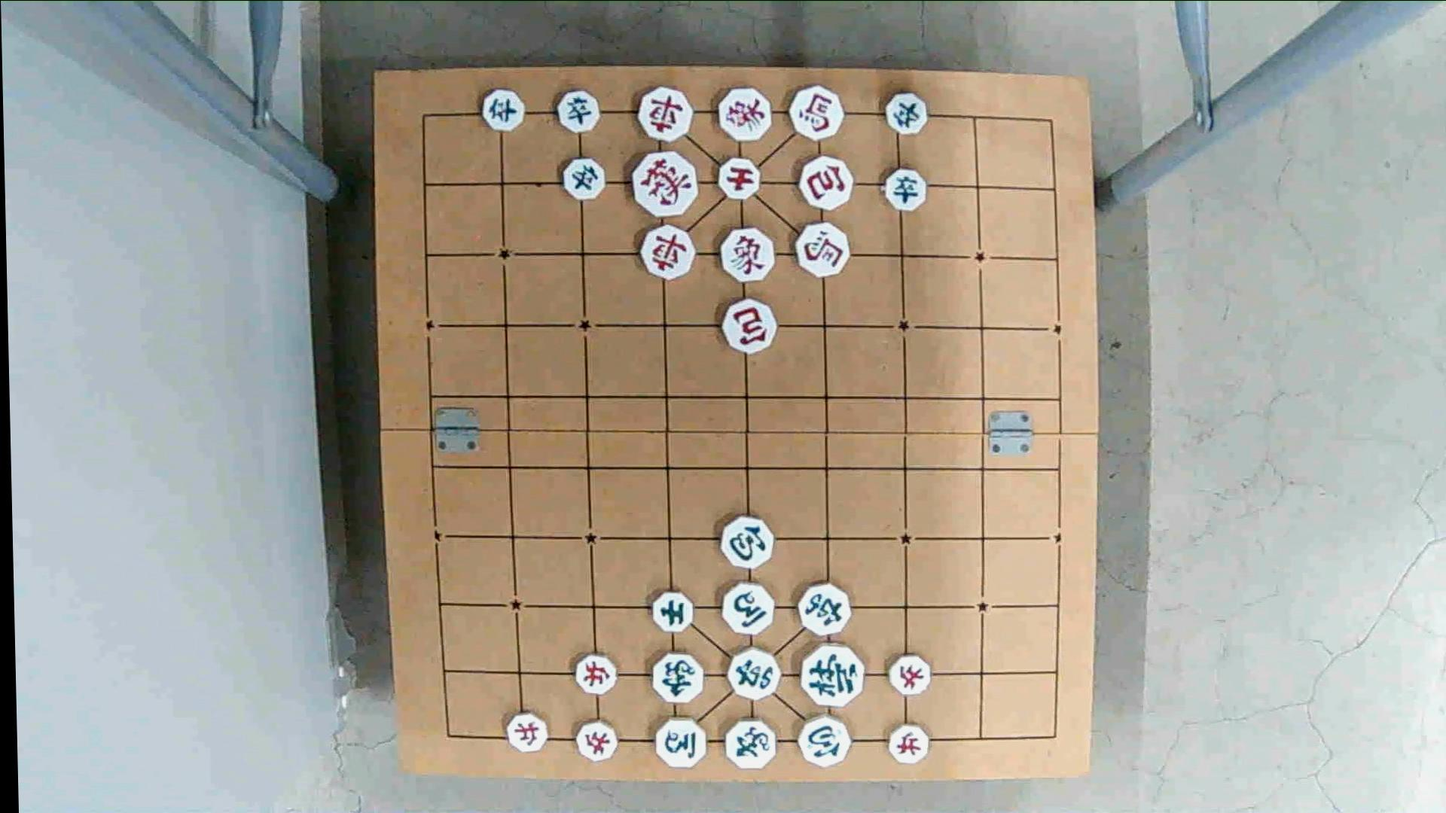cha_green: (793, 582, 851, 635), (725, 648, 783, 696)
cha_red: (636, 85, 695, 141), (636, 227, 695, 276)
jol_green: (879, 92, 930, 132), (559, 156, 605, 199), (480, 85, 526, 128), (879, 168, 926, 208), (556, 92, 602, 132)
jol_red: (503, 711, 548, 751), (887, 721, 930, 762), (573, 653, 617, 691), (885, 654, 929, 692), (575, 720, 615, 760)
ma_green: (720, 579, 773, 637), (650, 715, 707, 763)
ma_red: (792, 224, 851, 276), (788, 88, 844, 140)
po_green: (719, 516, 776, 568), (796, 718, 853, 765)
po_red: (717, 297, 776, 347), (798, 157, 853, 206)
sa_green: (649, 594, 694, 633)
sa_red: (713, 157, 761, 196)
sang_green: (649, 647, 704, 705), (723, 717, 774, 768)
sang_red: (712, 85, 773, 137), (715, 226, 774, 279)
wang_green: (802, 644, 865, 707)
wang_red: (627, 153, 697, 213)
